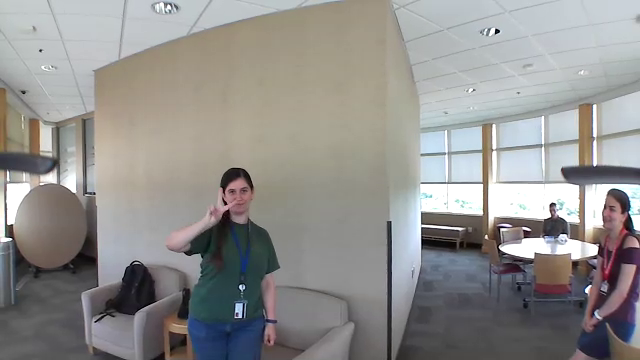peace: (202, 185, 239, 229)
